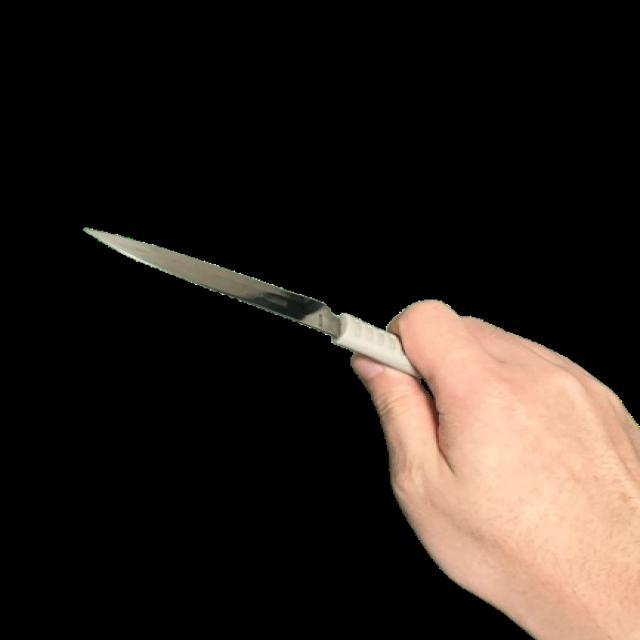knife: (65, 225, 420, 385)
